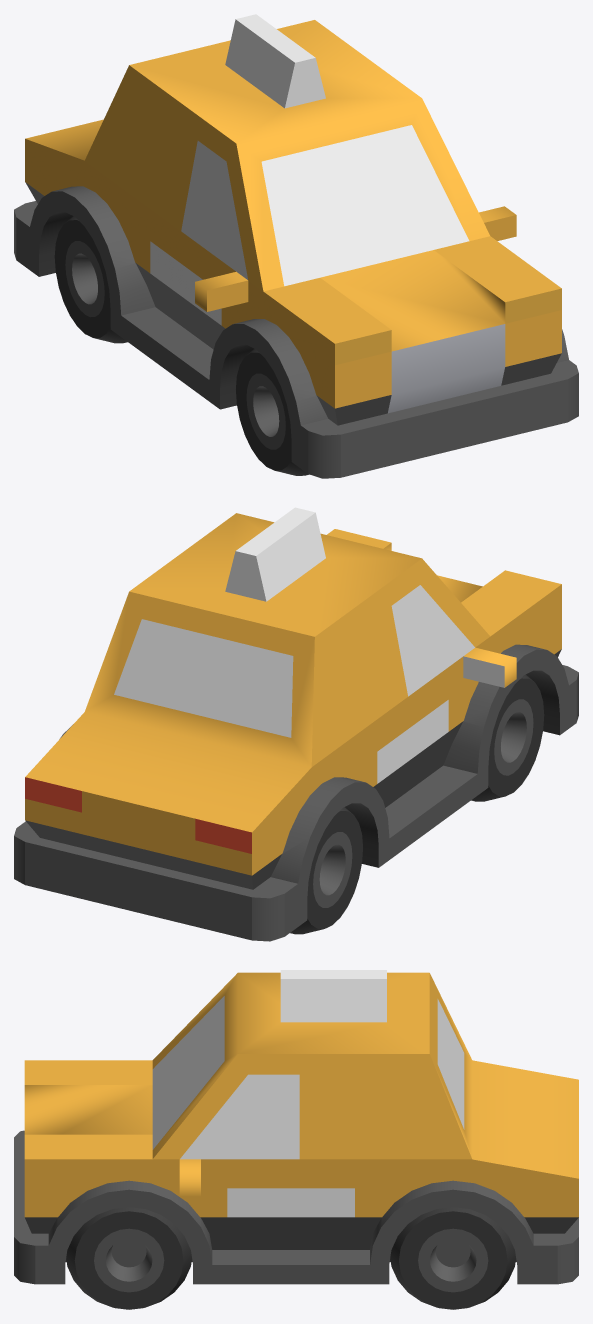
File: taxi.obj
3 views of the same model, one above another, from view 1: azimuth 30°, elevation 25°; view 2: azimuth 150°, elevation 25°; view 3: azimuth 270°, elevation 25° (orthographic). The views are drawn at different scales.
Visible parts, largest first — view 1: body, wheel_backRight, wheel_frontRight; view 2: body, wheel_backRight, wheel_frontRight; view 3: body, wheel_backLeft, wheel_frontLeft.
Boxes of the visible parts, x1,y1,x2,y2 form: body: (14,14,578,478); wheel_backRight: (54,216,127,343); wheel_frontRight: (236,348,308,475); body: (14,507,578,941); wheel_backRight: (290,807,362,934); wheel_frontRight: (471,674,544,801); body: (14,970,578,1284); wheel_backLeft: (390,1207,515,1309); wheel_frontLeft: (66,1207,191,1309).
Bounding box in the file's own units: 1.5 × 1.5 × 2.65.
